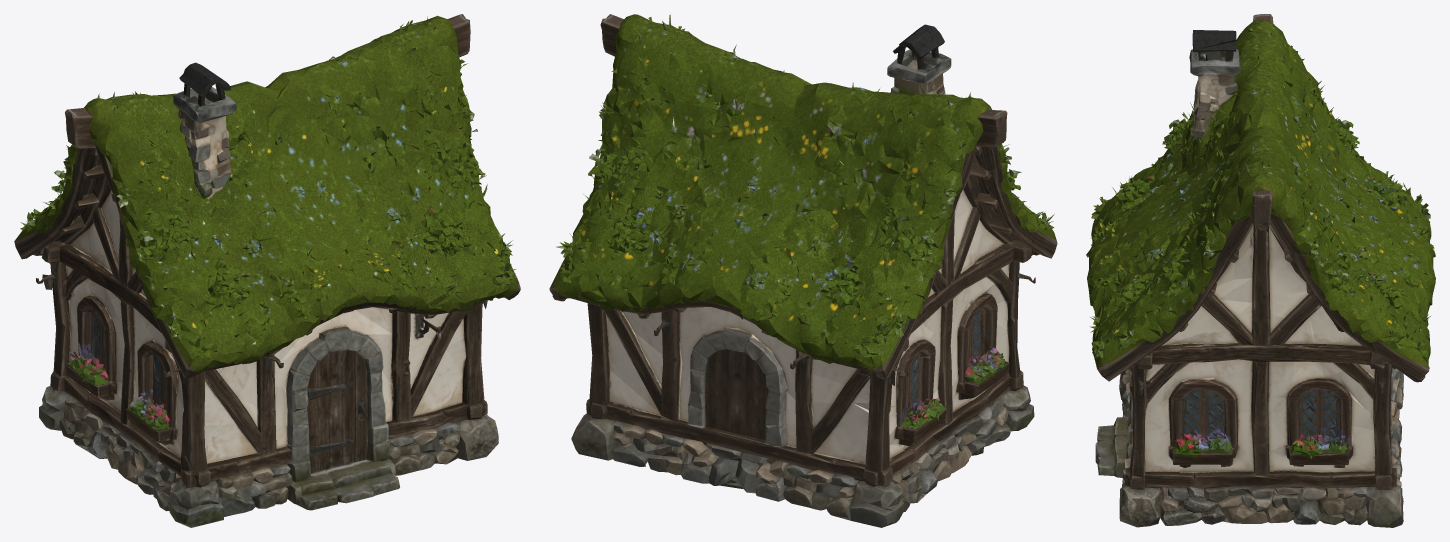
The model's file is CasaEldoria02.glb.
3 views of the same model, side by side, from view 1: azimuth 30°, elevation 25°; view 2: azimuth 150°, elevation 25°; view 3: azimuth 270°, elevation 25° (orthographic). The views are drawn at different scales.
Visible parts, largest first — view 1: output_unwrapped; view 2: output_unwrapped; view 3: output_unwrapped.
Part boxes in pixels (x1,y1,x2,y2): output_unwrapped: (14, 14, 520, 527); output_unwrapped: (549, 14, 1057, 527); output_unwrapped: (1086, 14, 1435, 527).
Size of the model in its own units: 1.9 by 1.85 by 1.53.
1 material, 1 textured.
